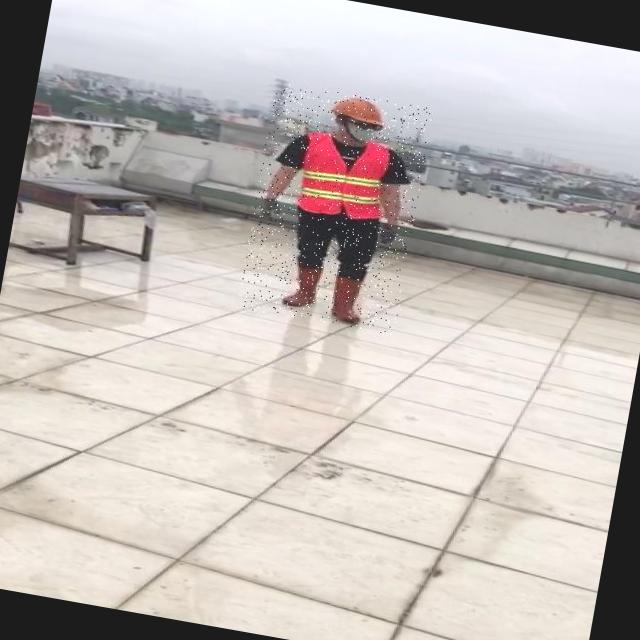boots: (278, 262, 324, 309), (324, 274, 367, 323)
helmet: (327, 92, 386, 126)
vest: (295, 131, 392, 222)
